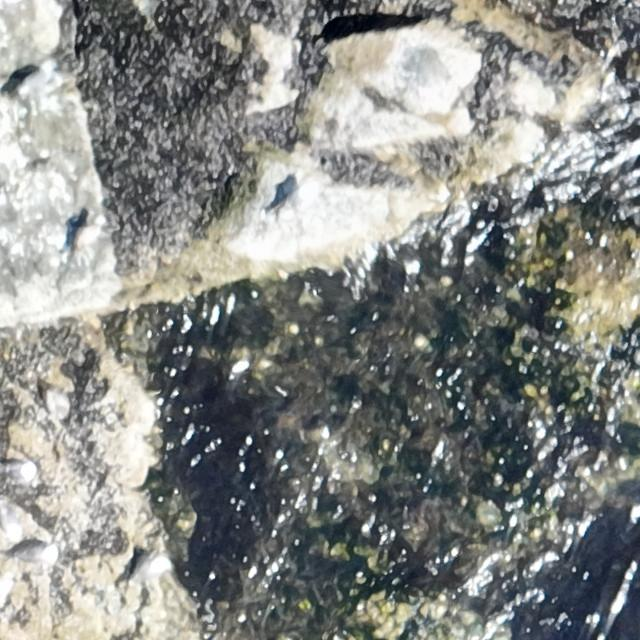umineko: (276, 180, 326, 215), (12, 60, 56, 99), (125, 555, 171, 587), (9, 538, 59, 564), (4, 453, 35, 482)
